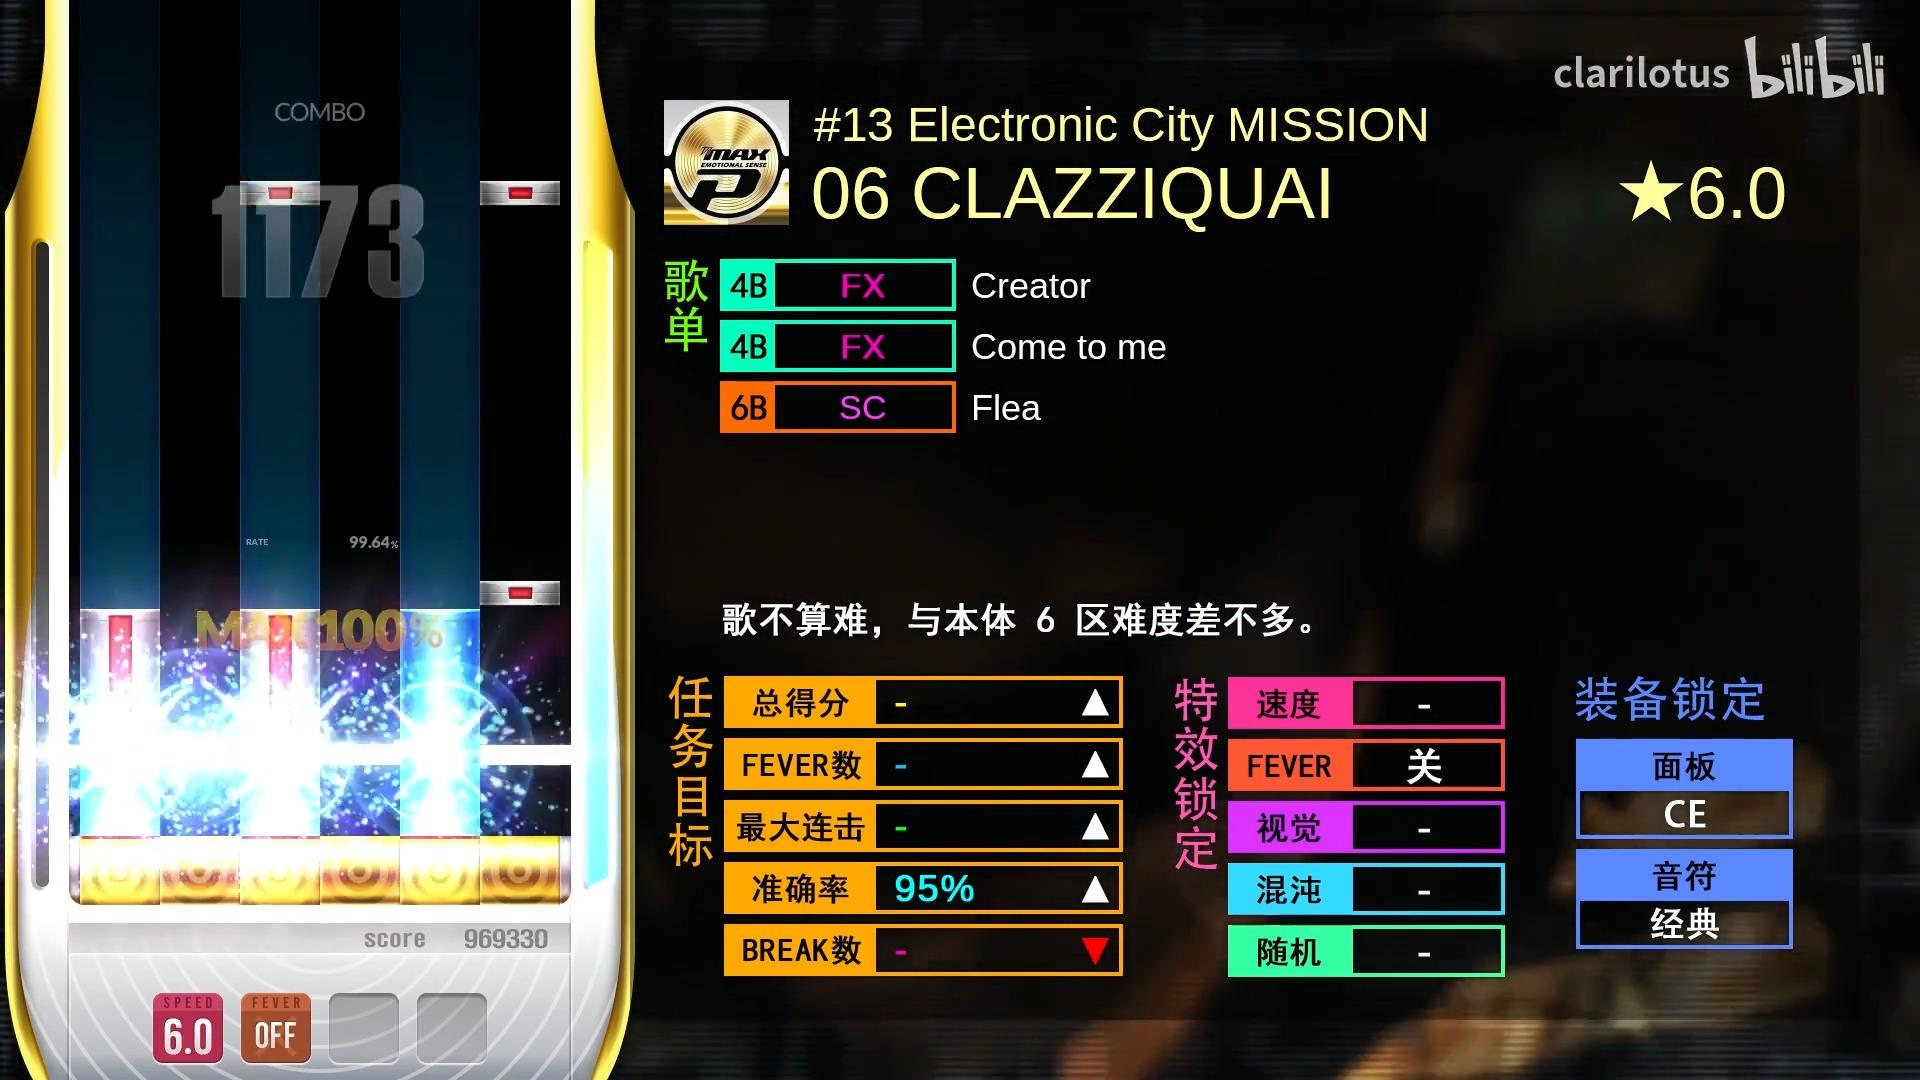hold-end: (400, 609, 480, 633), (80, 609, 160, 633), (241, 608, 320, 632)
note: (239, 181, 320, 206), (480, 181, 560, 206), (481, 580, 562, 605)
